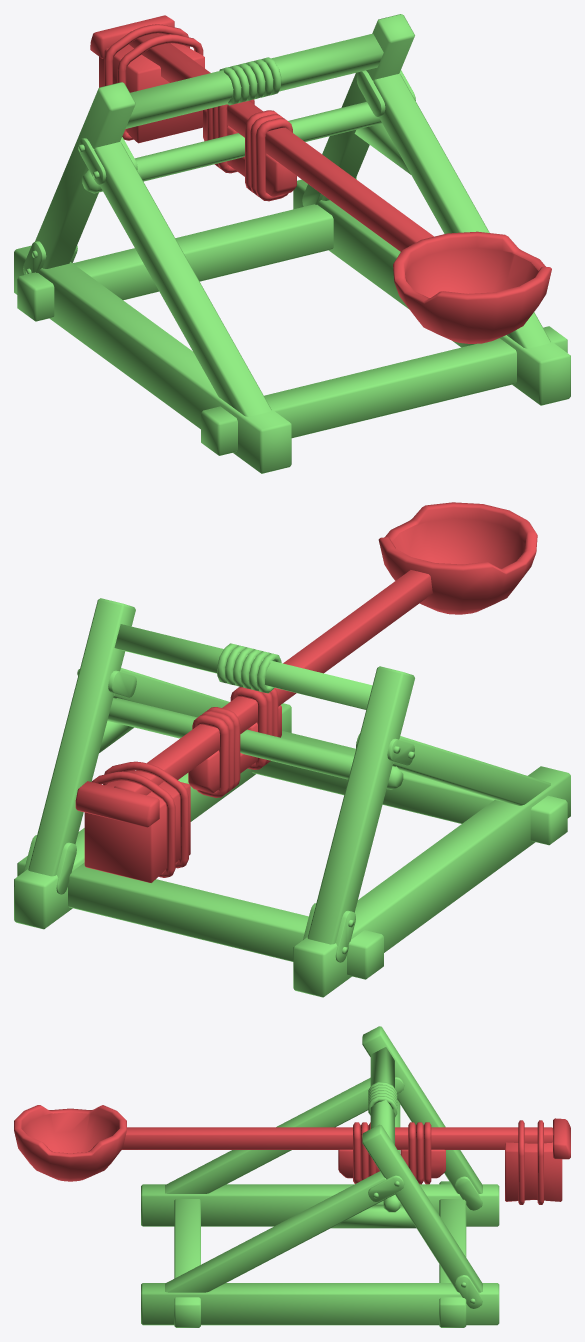
The model's file is katapulta.fbx.
The picture shows the model from 3 angles, top to bottom: view 1: azimuth 30°, elevation 25°; view 2: azimuth 150°, elevation 25°; view 3: azimuth 270°, elevation 25°; orthographic projection. The views are drawn at different scales.
Parts seen in each view (by area): view 1: Cube.029, Plane; view 2: Cube.029, Plane; view 3: Cube.029, Plane.
Part boxes in pixels (box(x1,y1,x2,y2)): Cube.029: box(14, 14, 570, 473); Plane: box(90, 15, 551, 343); Cube.029: box(14, 598, 570, 997); Plane: box(75, 502, 537, 882); Cube.029: box(141, 1026, 499, 1327); Plane: box(14, 1105, 570, 1204).
Size of the model in its own units: 103 by 74.76 by 197.
